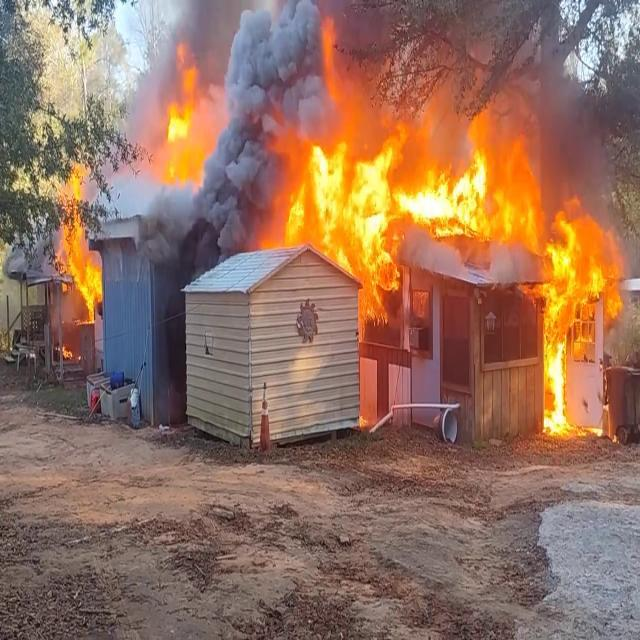Fire: (253, 107, 535, 305), (528, 201, 626, 437), (152, 52, 222, 187), (54, 164, 106, 322)
